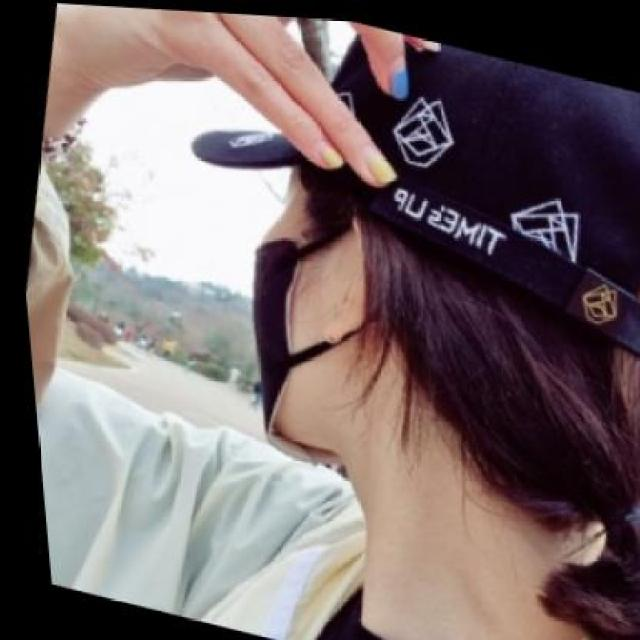hat: (140, 7, 640, 370)
